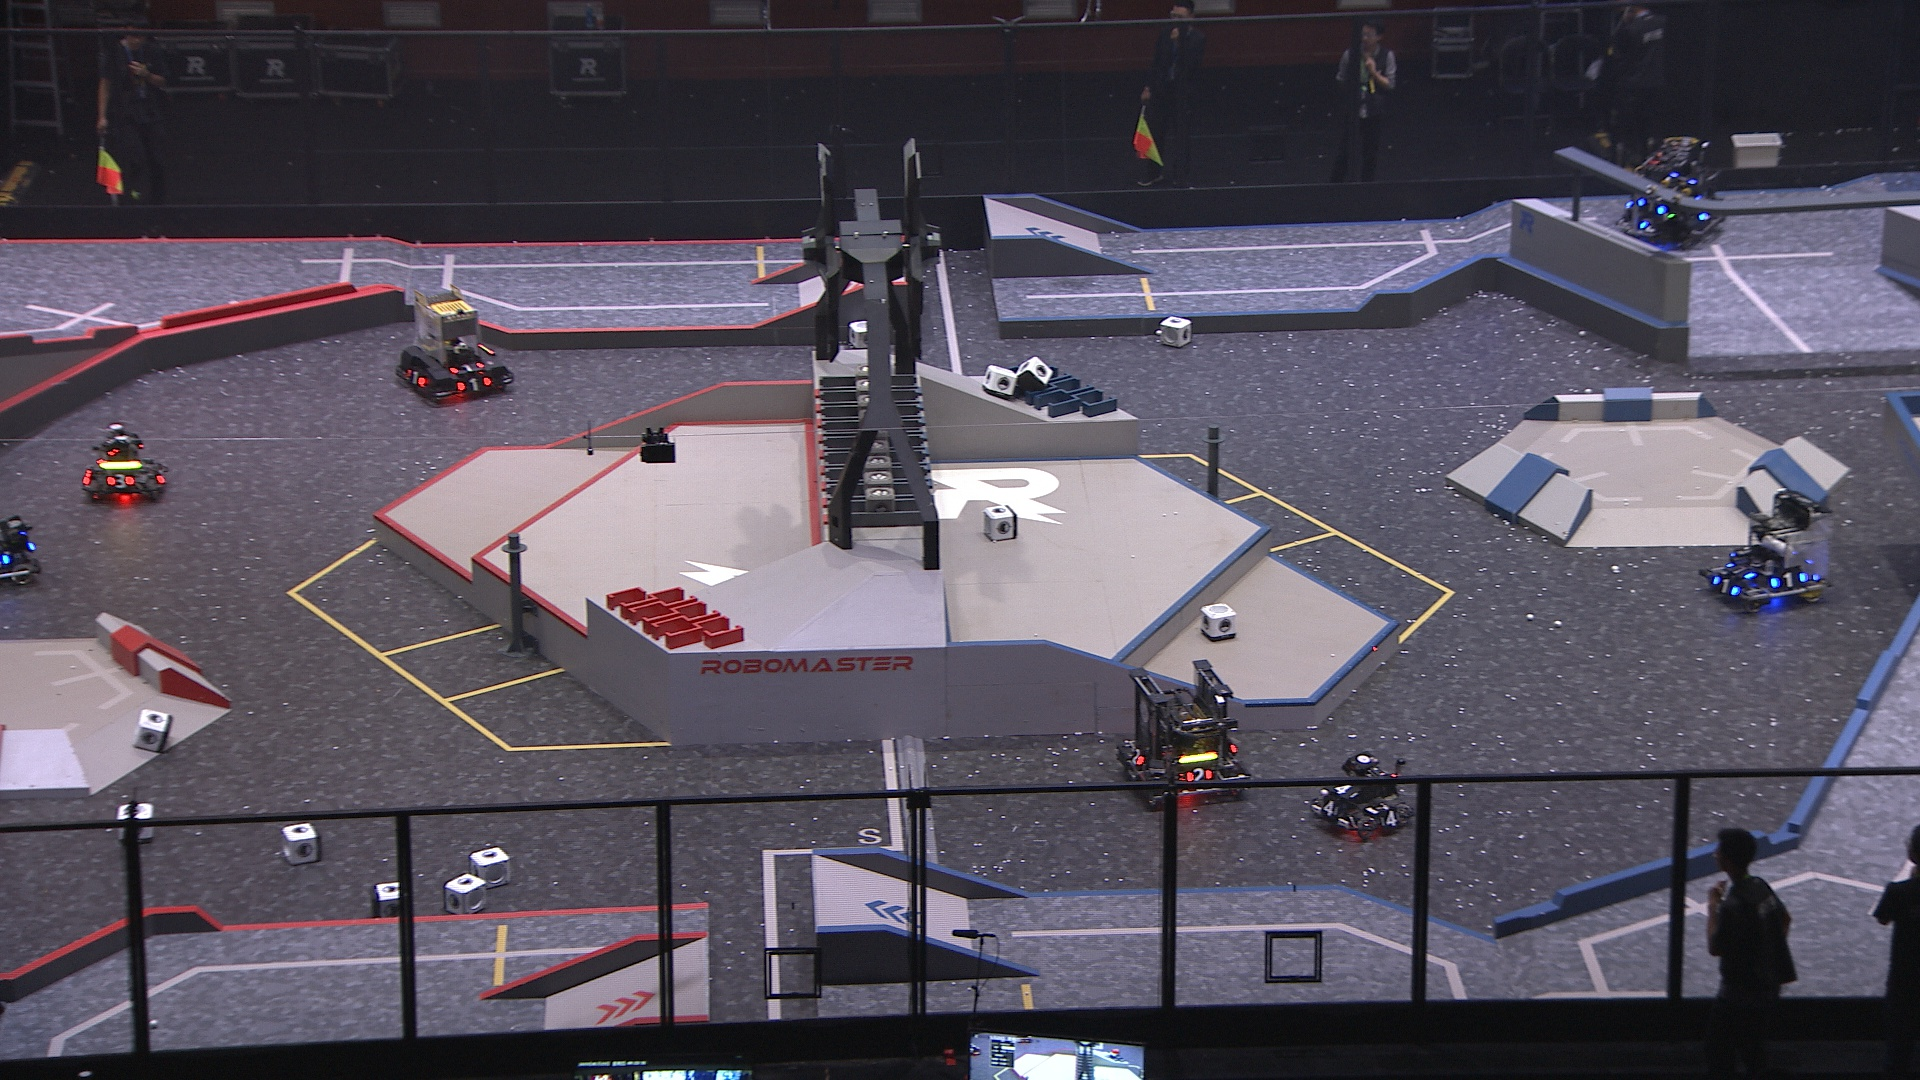armor: (1766, 570, 1808, 589), (1182, 764, 1215, 789), (456, 375, 493, 396), (401, 365, 430, 392), (102, 472, 138, 491), (1712, 572, 1738, 597), (1636, 196, 1667, 215), (1726, 560, 1754, 580), (448, 361, 485, 376), (1320, 796, 1342, 820), (1333, 781, 1360, 800), (1378, 807, 1400, 829), (1636, 215, 1659, 233), (153, 463, 169, 488), (1125, 745, 1143, 766)
car: (1112, 657, 1247, 807), (1698, 485, 1837, 613), (392, 280, 520, 406), (1615, 133, 1727, 247), (1304, 752, 1422, 840), (76, 418, 173, 504)
watcher: (1631, 158, 1704, 243)
